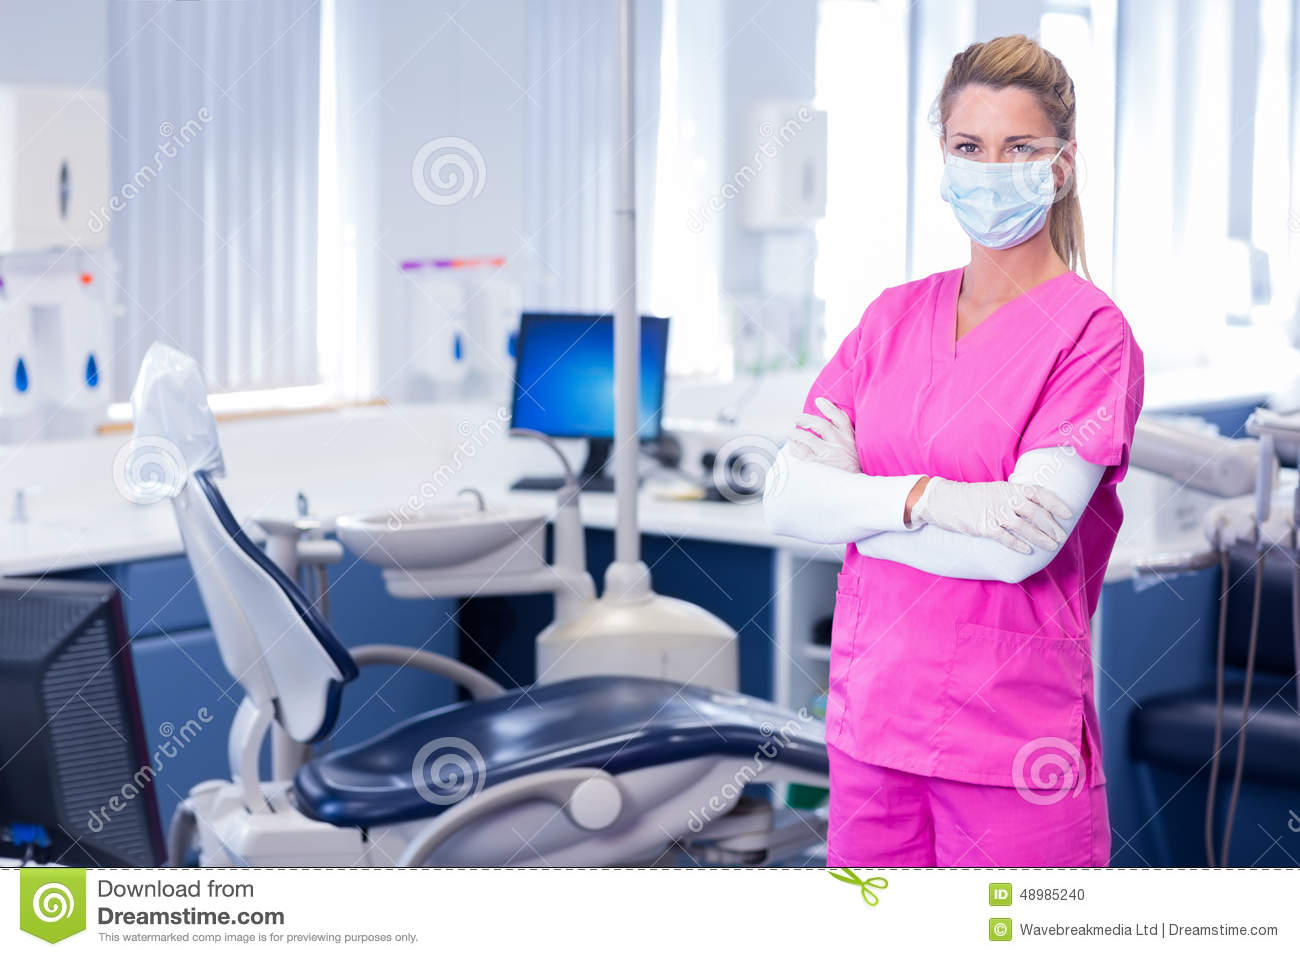mask: (939, 157, 1073, 261)
